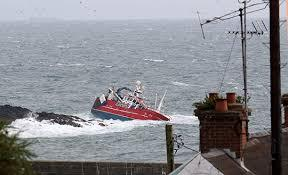Ship: (92, 81, 171, 121)
